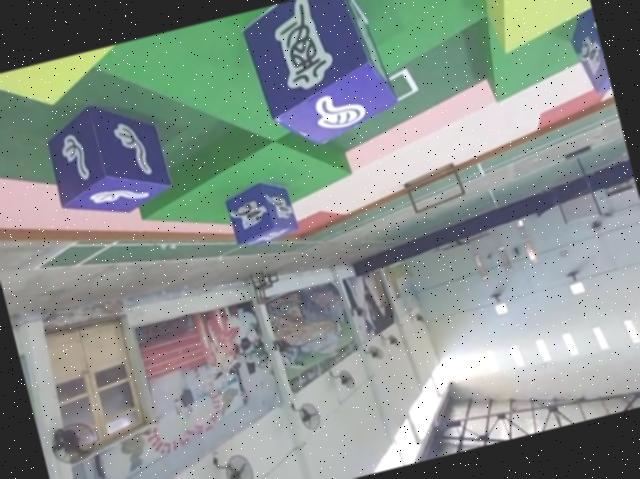R1 Blue: (224, 174, 303, 249), (562, 0, 612, 95)
R2 Fake Blue: (238, 0, 401, 153)
R2 Real Blue: (39, 86, 176, 224)
